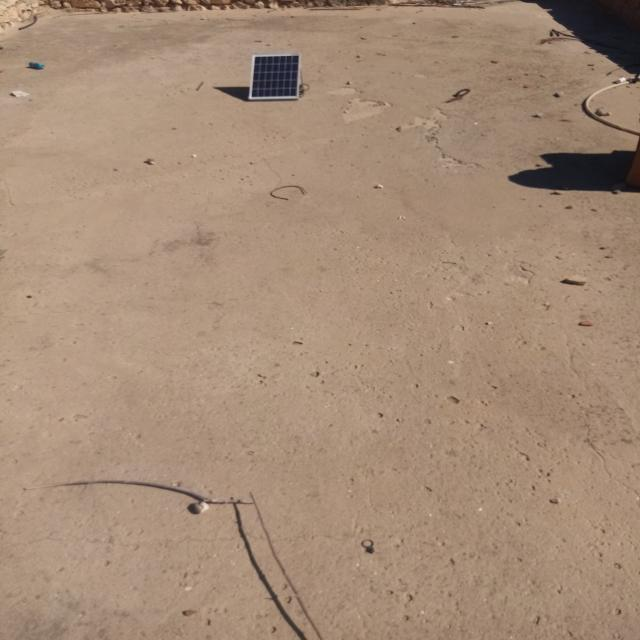no faulty: (249, 54, 300, 99)
